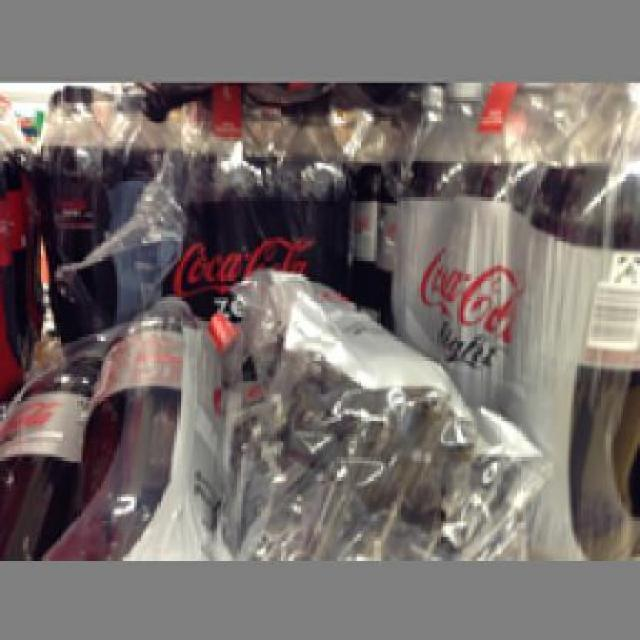Soda: (77, 285, 217, 558), (0, 328, 97, 552), (36, 82, 112, 318), (114, 94, 194, 314), (268, 98, 348, 292)
